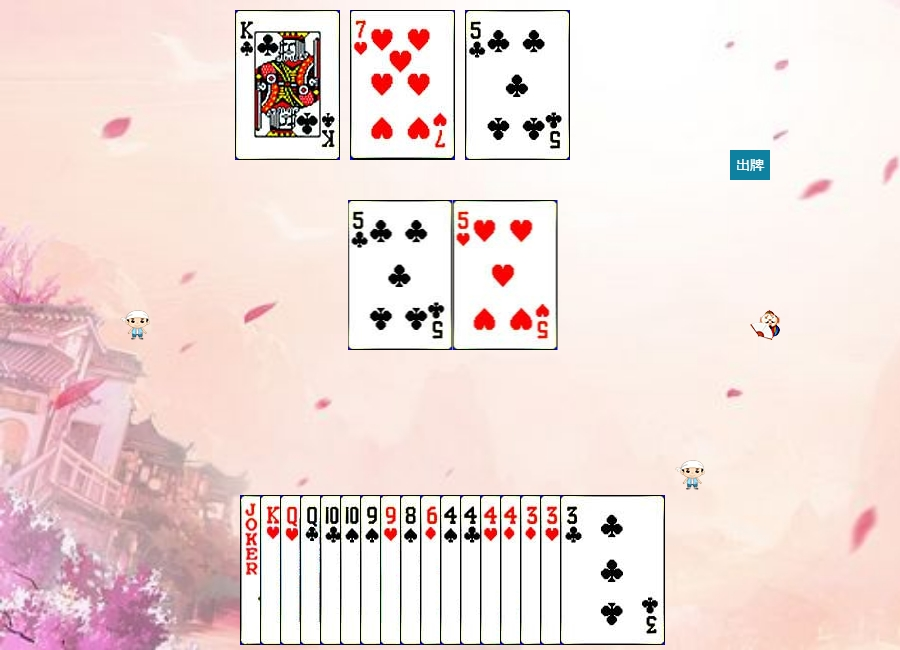10~2: (320, 495, 425, 645)
10~4: (340, 495, 445, 645)
12~2: (300, 495, 405, 645)
12~3: (280, 495, 385, 645)
13~2: (235, 10, 340, 160)
13~3: (260, 495, 365, 645)
18~4: (240, 495, 345, 645)
3~1: (520, 495, 625, 645)
3~2: (560, 495, 665, 645)
3~3: (540, 495, 645, 645)
4~1: (500, 495, 605, 645)
4~2: (460, 495, 565, 645)
4~3: (480, 495, 585, 645)
4~4: (440, 495, 545, 645)
5~2: (465, 10, 570, 160), (348, 200, 453, 350)
5~3: (453, 200, 558, 350)
6~1: (420, 495, 525, 645)
7~3: (350, 10, 455, 160)
8~4: (400, 495, 505, 645)
9~3: (380, 495, 485, 645)
9~4: (360, 495, 465, 645)
